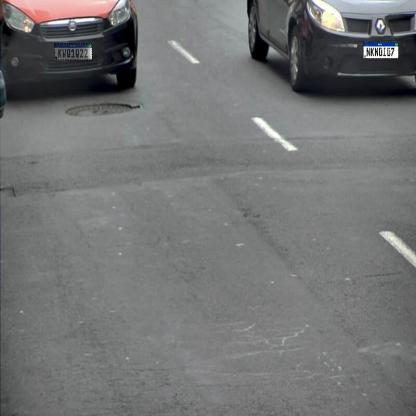PlacaM: (54, 43, 93, 60), (363, 42, 399, 59)
